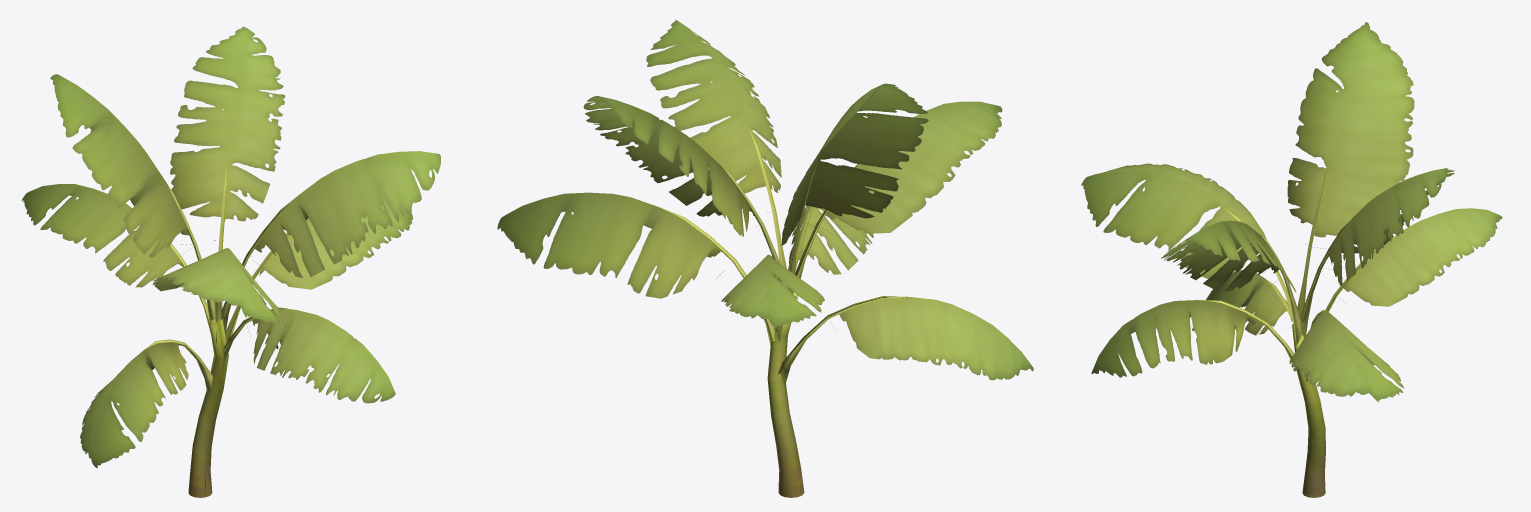
File: banana plant 01_lod1.obj
3 renders of one model, left to right at view 1: azimuth 30°, elevation 25°; view 2: azimuth 150°, elevation 25°; view 3: azimuth 270°, elevation 25°, orthographic. The views are drawn at different scales.
Visible parts, largest first — view 1: tree; view 2: tree; view 3: tree.
Boxes of the visible parts, box(x1,y1,x2,y2) form: tree: box(21, 26, 440, 497); tree: box(497, 20, 1033, 497); tree: box(1081, 22, 1502, 497).
Size of the model in its own units: 275 by 272 by 263.
